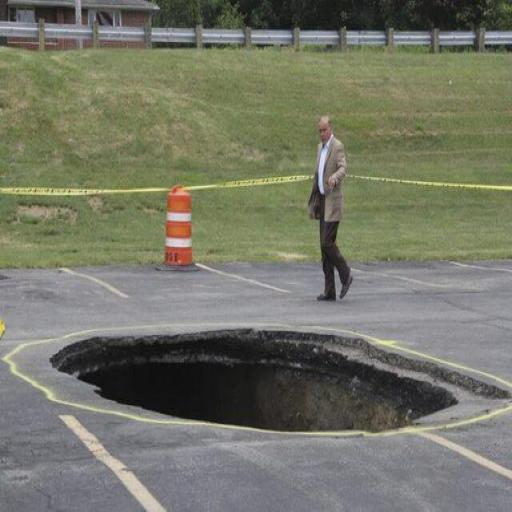Concentric_Crack: (51, 328, 510, 431)
